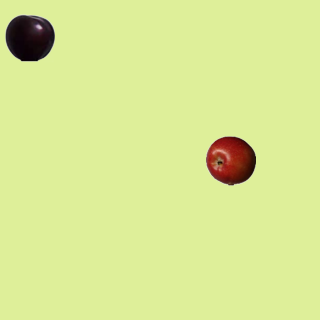Apple Braeburn: (205, 135, 255, 185)
Cherry Wax Black: (4, 12, 54, 62)
